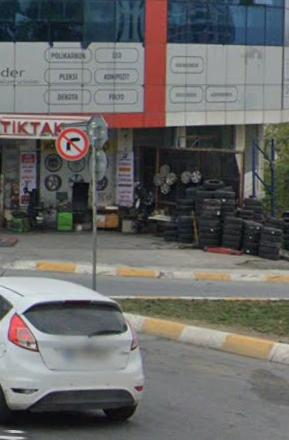rightturnsareforbidden: (57, 129, 90, 157)
